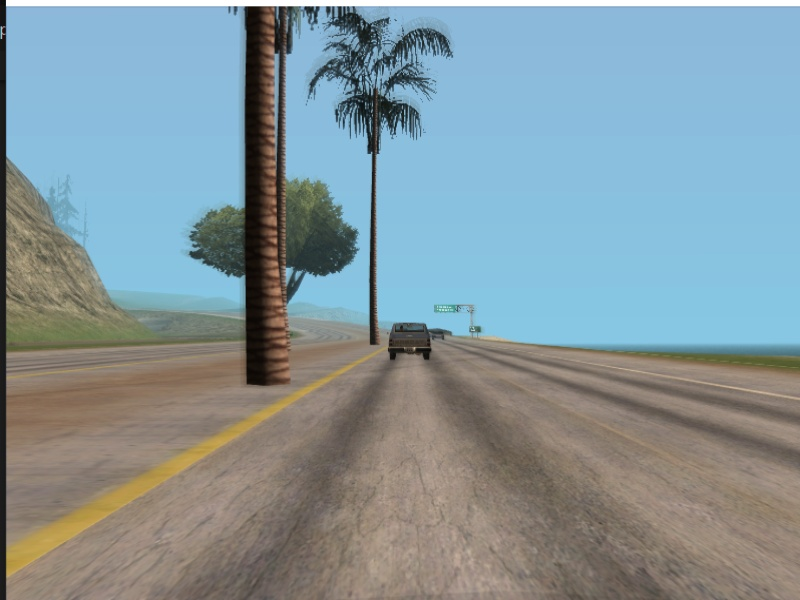tree: (238, 8, 296, 391), (366, 98, 382, 350)
vehicle: (386, 318, 434, 363), (431, 328, 445, 344)
